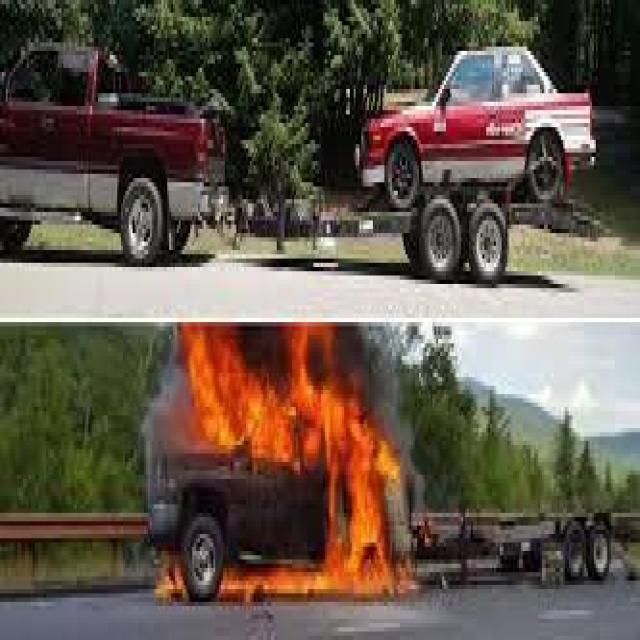fire: (173, 331, 440, 600)
